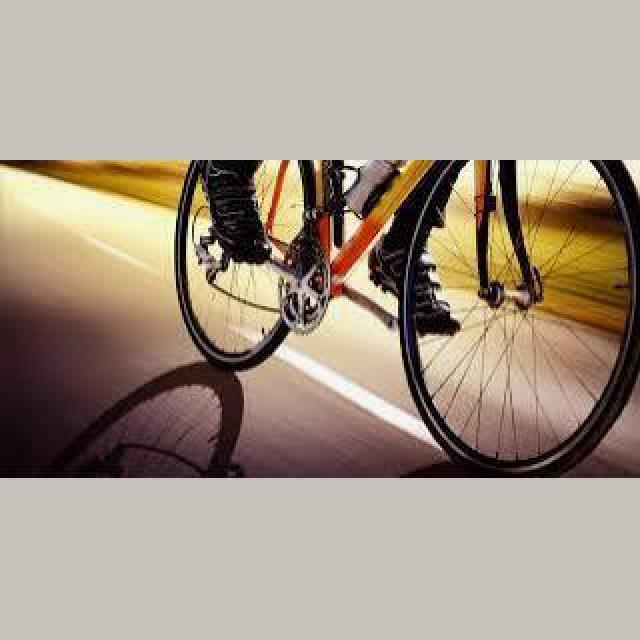Person: (174, 160, 640, 478)
